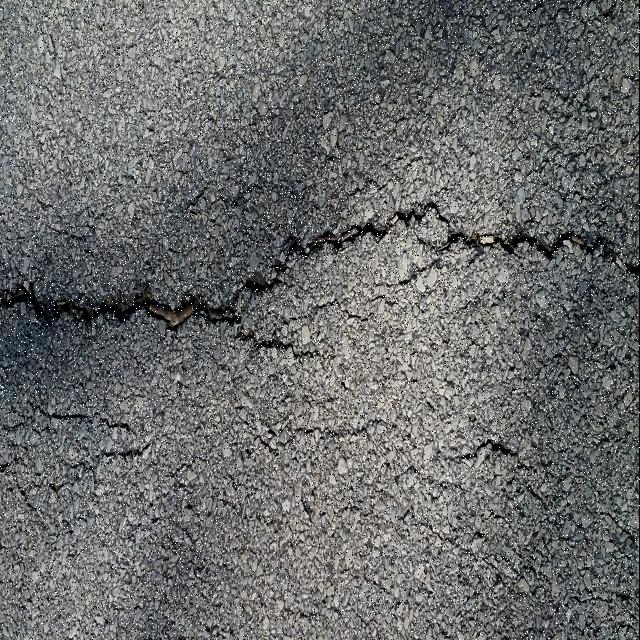Crack: (0, 198, 640, 363)
